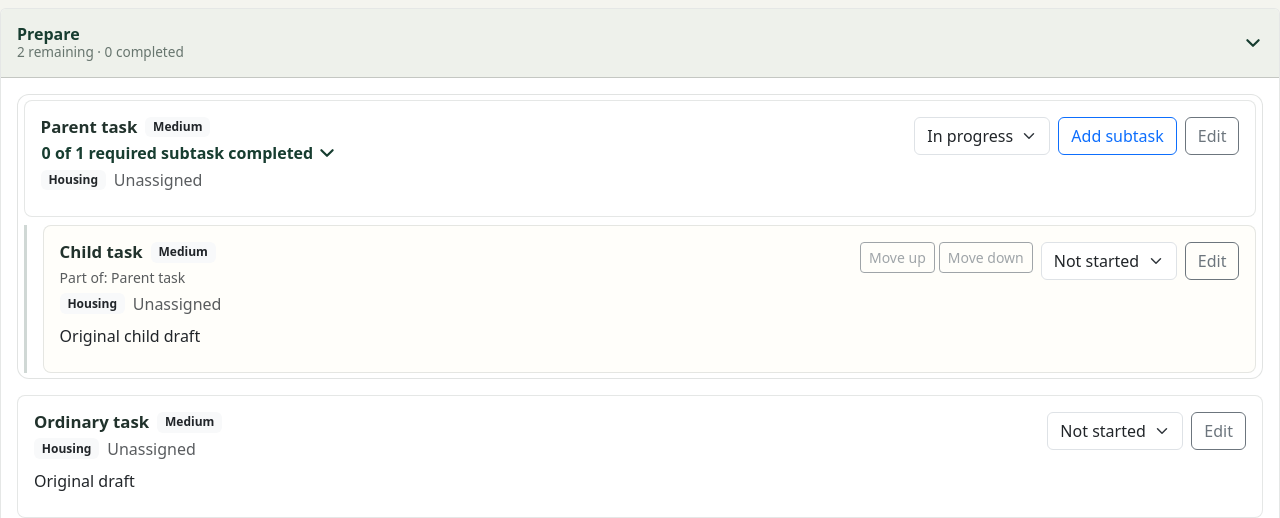
Test: existing Task edit return › keeps the editor and draft open after persistence failure
(page scrolled)
Click the button "Edit" in the row of "Ordinary task" at (1219, 431), box [1191,412,1246,450]
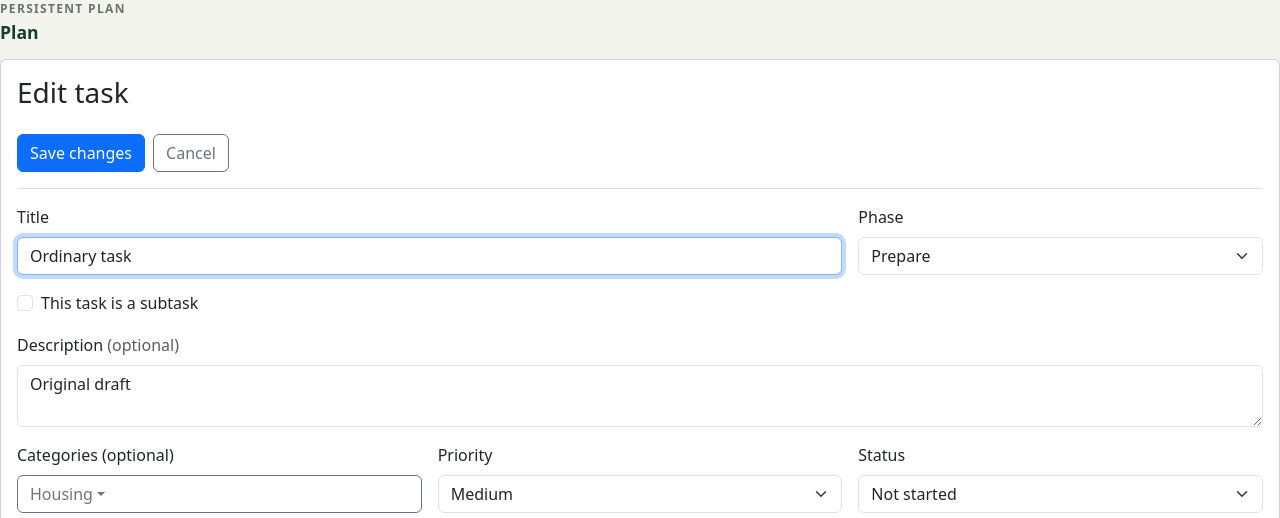
Replace the text in the text box labelled "Description (optional)" with "Keep this draft" at (640, 396), box [17,365,1263,427]
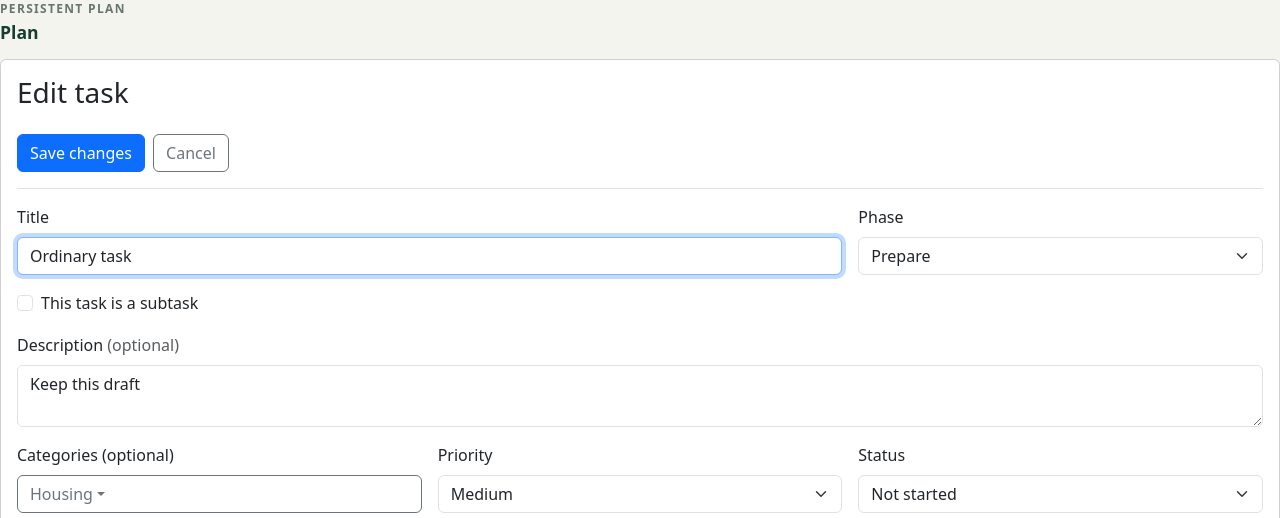
Click the button "Save changes" at (81, 153), box [17,134,145,172]
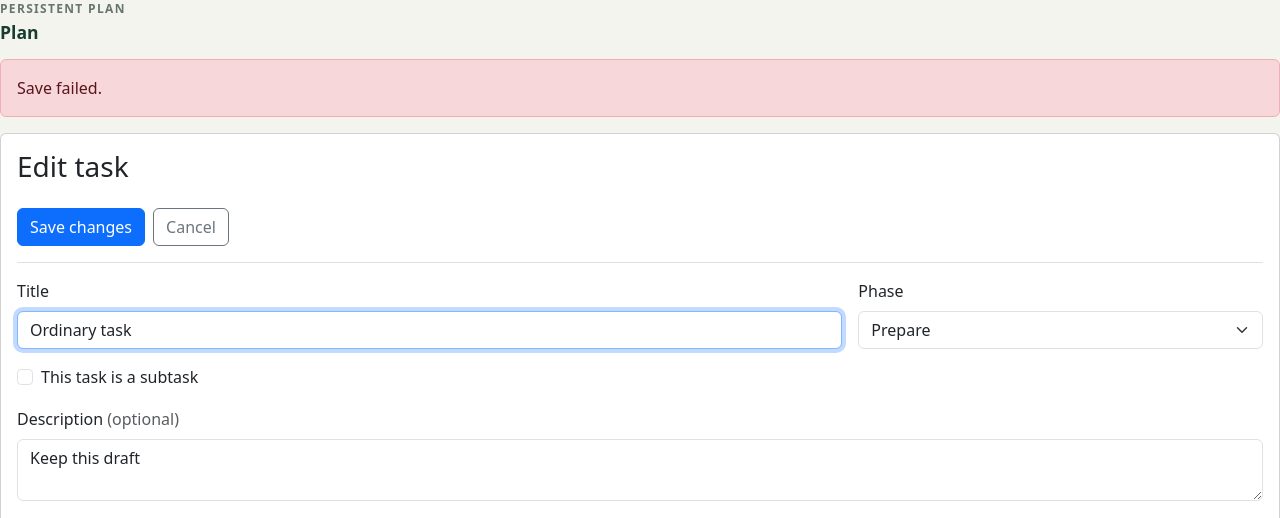
Now the heading "Edit task" is shown, box [17,147,129,185]
Now the text "Save failed." is shown, box [0,59,1279,117]
